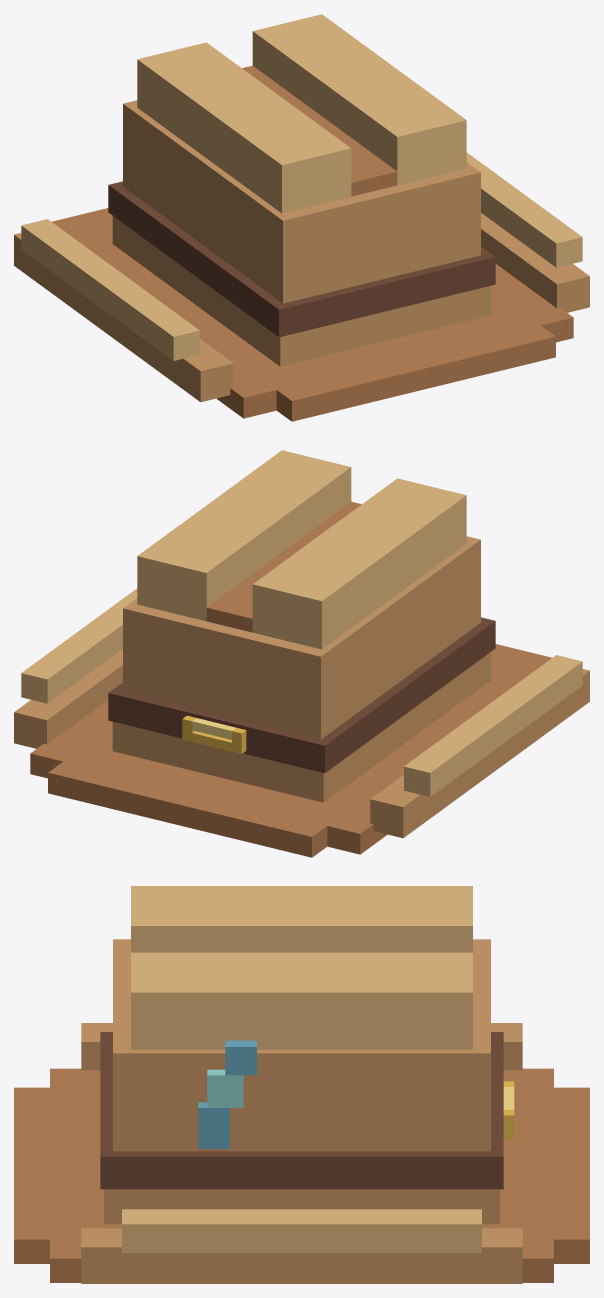
File: cowboy_hat.glb
The picture shows the model from 3 angles, top to bottom: view 1: azimuth 30°, elevation 25°; view 2: azimuth 150°, elevation 25°; view 3: azimuth 270°, elevation 25°; orthographic projection. The views are drawn at different scales.
Visible parts, largest first — view 1: crown, left_ridge, right_ridge, brim_center, leather_band, crown_base, brim_back, left_curl_top, left_curl_lower, right_curl_top, right_curl_lower, center_crease (+1 smaller); view 2: crown, left_ridge, right_ridge, brim_center, leather_band, crown_base, brim_front, left_curl_top, left_curl_lower, right_curl_top, right_curl_lower, center_crease (+2 smaller); view 3: crown, right_ridge, left_ridge, brim_center, leather_band, right_curl_top, right_curl_lower, crown_base, brim_front, brim_back, left_curl_lower, side_feather_base (+2 smaller).
Boxes of the visible parts, left/top/right/bottom form: crown: left=123, top=100, right=480, bottom=303; left_ridge: left=137, top=42, right=351, bottom=213; right_ridge: left=252, top=14, right=466, bottom=185; brim_center: left=67, top=222, right=573, bottom=418; leather_band: left=108, top=181, right=495, bottom=337; crown_base: left=112, top=216, right=491, bottom=366; brim_back: left=276, top=325, right=555, bottom=421; left_curl_top: left=21, top=219, right=199, bottom=360; left_curl_lower: left=14, top=233, right=233, bottom=402; right_curl_top: left=466, top=152, right=582, bottom=267; right_curl_lower: left=481, top=213, right=589, bottom=312; center_crease: left=242, top=65, right=397, bottom=196; crown: left=123, top=536, right=480, bottom=739; left_ridge: left=252, top=478, right=466, bottom=649; right_ridge: left=137, top=450, right=351, bottom=621; brim_center: left=30, top=658, right=536, bottom=854; leather_band: left=108, top=617, right=495, bottom=773; crown_base: left=112, top=652, right=491, bottom=802; brim_front: left=48, top=761, right=327, bottom=857; left_curl_top: left=404, top=655, right=582, bottom=796; left_curl_lower: left=370, top=669, right=589, bottom=838; right_curl_top: left=21, top=588, right=137, bottom=703; right_curl_lower: left=14, top=649, right=122, bottom=748; center_crease: left=206, top=501, right=361, bottom=632; crown: left=113, top=939, right=490, bottom=1151; right_ridge: left=131, top=952, right=472, bottom=1049; left_ridge: left=131, top=886, right=472, bottom=952; brim_center: left=50, top=1068, right=553, bottom=1282; leather_band: left=100, top=1032, right=503, bottom=1189; right_curl_top: left=122, top=1209, right=481, bottom=1252; right_curl_lower: left=81, top=1228, right=522, bottom=1283; crown_base: left=104, top=1189, right=499, bottom=1224; brim_front: left=554, top=1087, right=589, bottom=1263; brim_back: left=14, top=1087, right=49, bottom=1263; left_curl_lower: left=81, top=1023, right=522, bottom=1070; side_feather_base: left=198, top=1102, right=229, bottom=1148.
Bounding box in the file's own units: 0.3875 × 0.1906 × 0.4.
